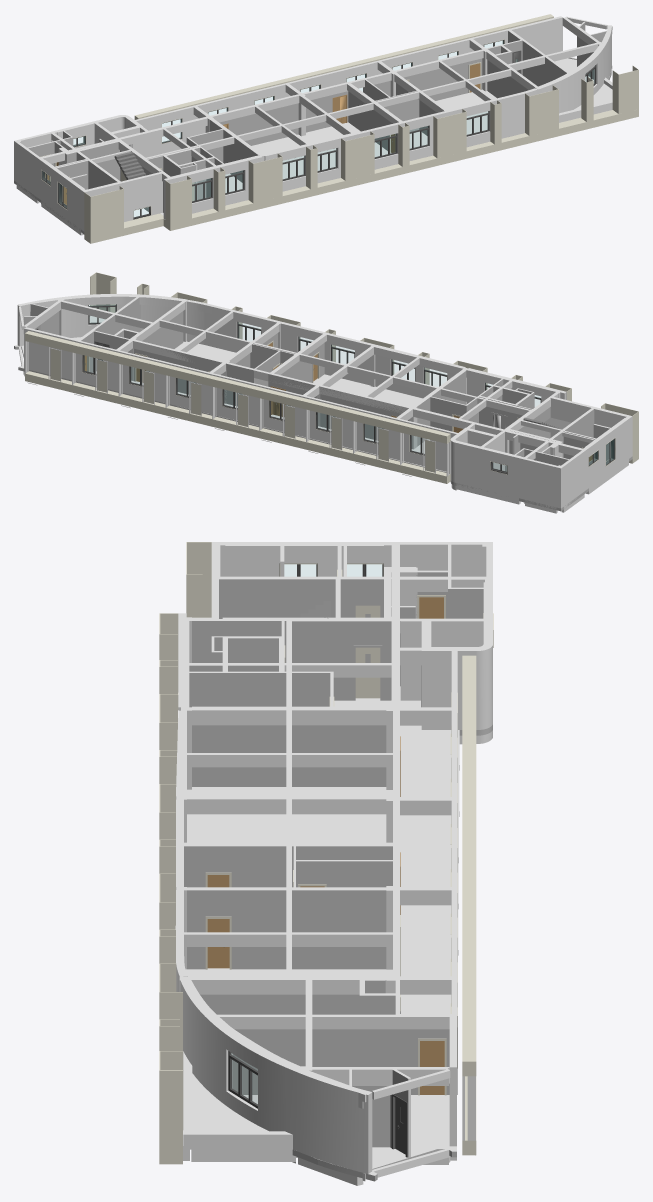
3 views of the same model, one above another, from view 1: azimuth 30°, elevation 25°; view 2: azimuth 150°, elevation 25°; view 3: azimuth 270°, elevation 25° (orthographic). The views are drawn at different scales.
Visible parts, largest first — view 1: 矩形钢管柱1_杆件_100x46x10__2282212__1; view 2: 矩形钢管柱1_杆件_100x46x10__2282212__1; view 3: 矩形钢管柱1_杆件_100x46x10__2282212__1.
Boxes of the visible parts, x1,y1,x2,y2 form: 矩形钢管柱1_杆件_100x46x10__2282212__1: [14, 14, 638, 243]; 矩形钢管柱1_杆件_100x46x10__2282212__1: [14, 272, 638, 513]; 矩形钢管柱1_杆件_100x46x10__2282212__1: [159, 542, 493, 1185].
Bounding box in the file's own units: 48210 × 3910 × 12268.
